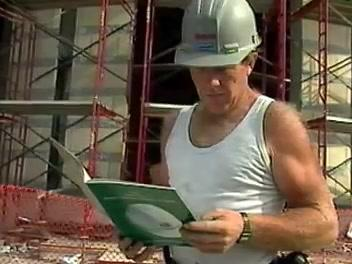helmet: (171, 0, 267, 70)
no -hi-vis jacket: (166, 102, 294, 258)
